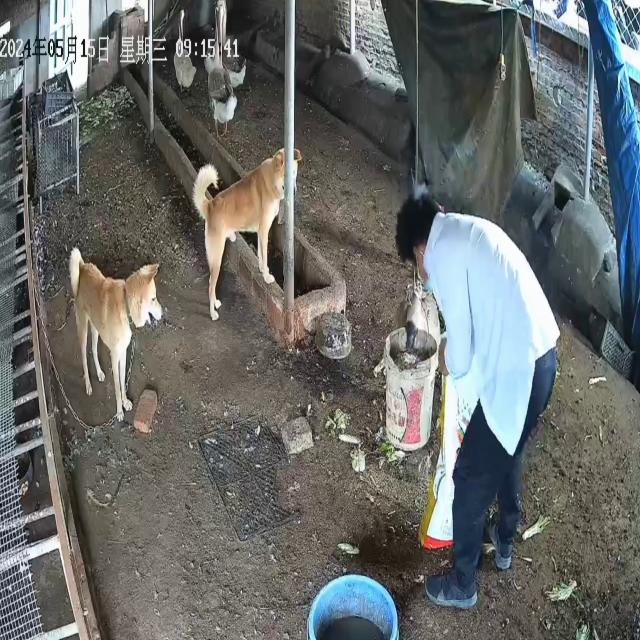dog: (192, 147, 303, 323), (69, 247, 164, 424)
